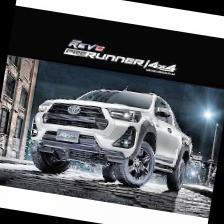NON-EV: (26, 73, 206, 199)
